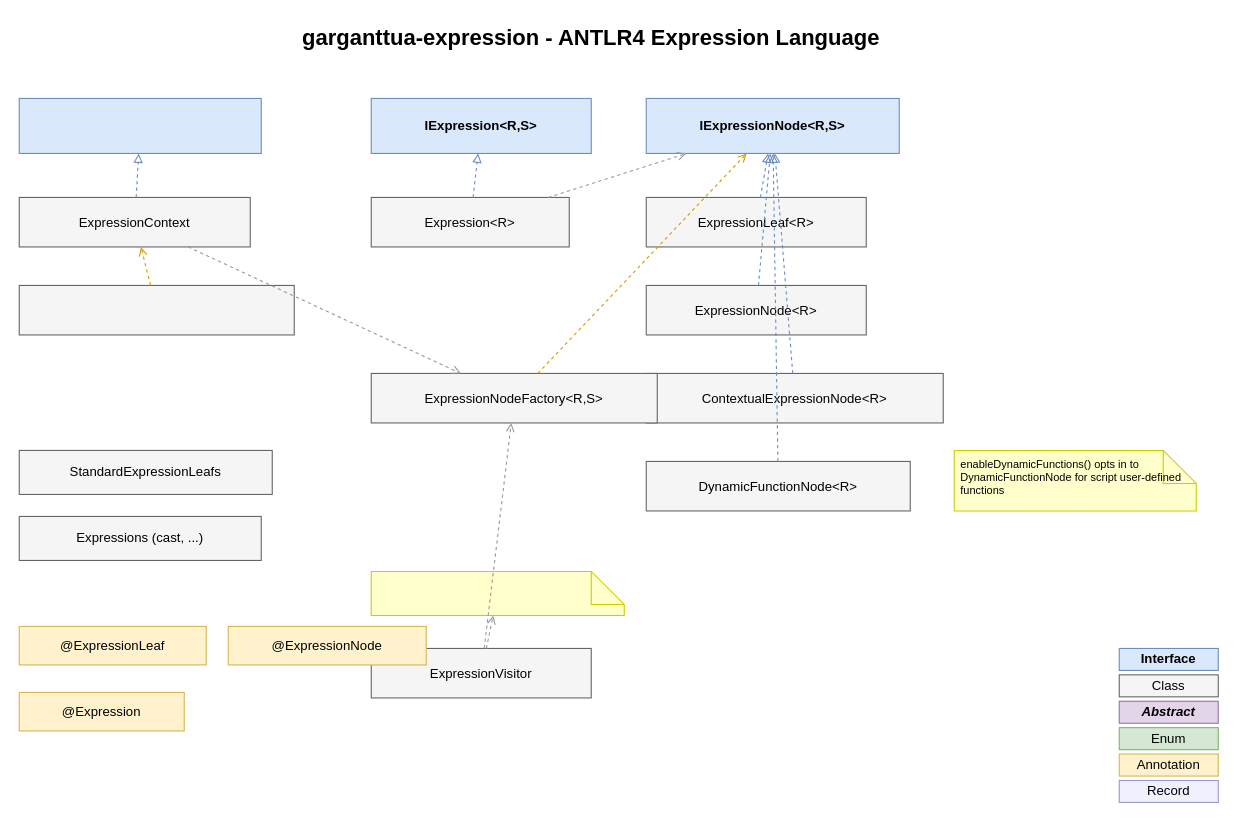
This 1238x822 diagram has some shape labels left out. The centre of each missing label's shape, as x and y in pixels:
Expression.g4 (ANTLR4): the point at 497,592
ExpressionContextBuilder: the point at 156,309
IExpressionContext: the point at 139,125
